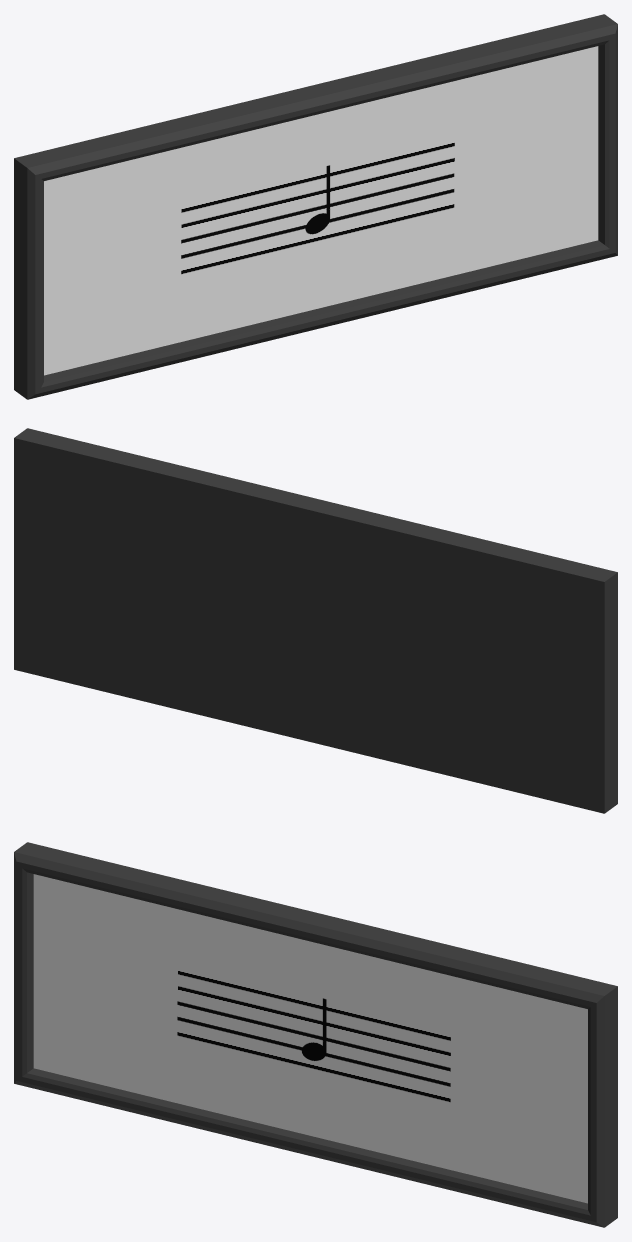
File: whiteboard-rect.fbx
3 views of the same model, one above another, from view 1: azimuth 30°, elevation 25°; view 2: azimuth 150°, elevation 25°; view 3: azimuth 330°, elevation 25° (orthographic).
Visible parts, largest first — view 1: Cube.011; view 2: Cube.011; view 3: Cube.011.
Part boxes in pixels (x1,y1,x2,y2): Cube.011: (14,14,617,399); Cube.011: (14,428,617,813); Cube.011: (14,842,617,1227).
Bounding box in the file's own units: 400 × 150 × 19.
3 materials, 1 textured.
